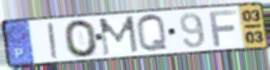9: (178, 12, 207, 50)
F: (207, 8, 239, 48)
I: (46, 21, 61, 60)
M: (97, 15, 140, 58)
O: (62, 19, 100, 59)
Q: (135, 13, 171, 54)
